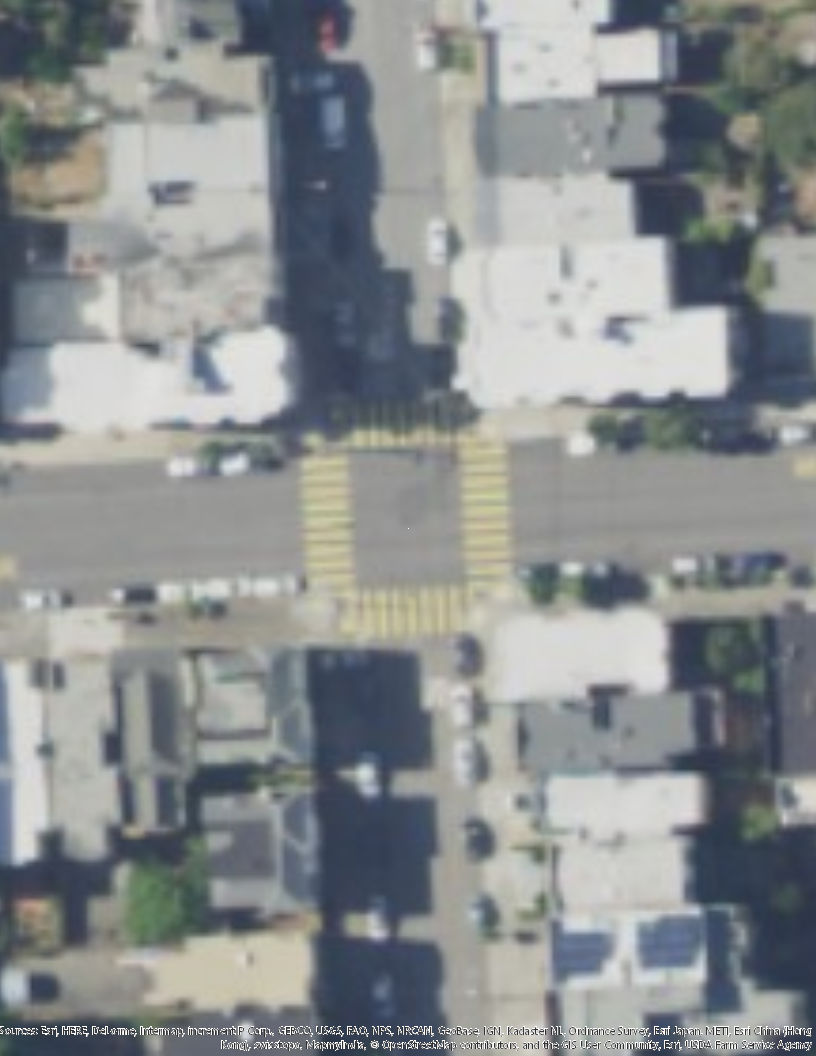zebracross: (298, 448, 359, 587), (463, 437, 510, 581), (338, 585, 468, 635), (336, 396, 453, 448)
